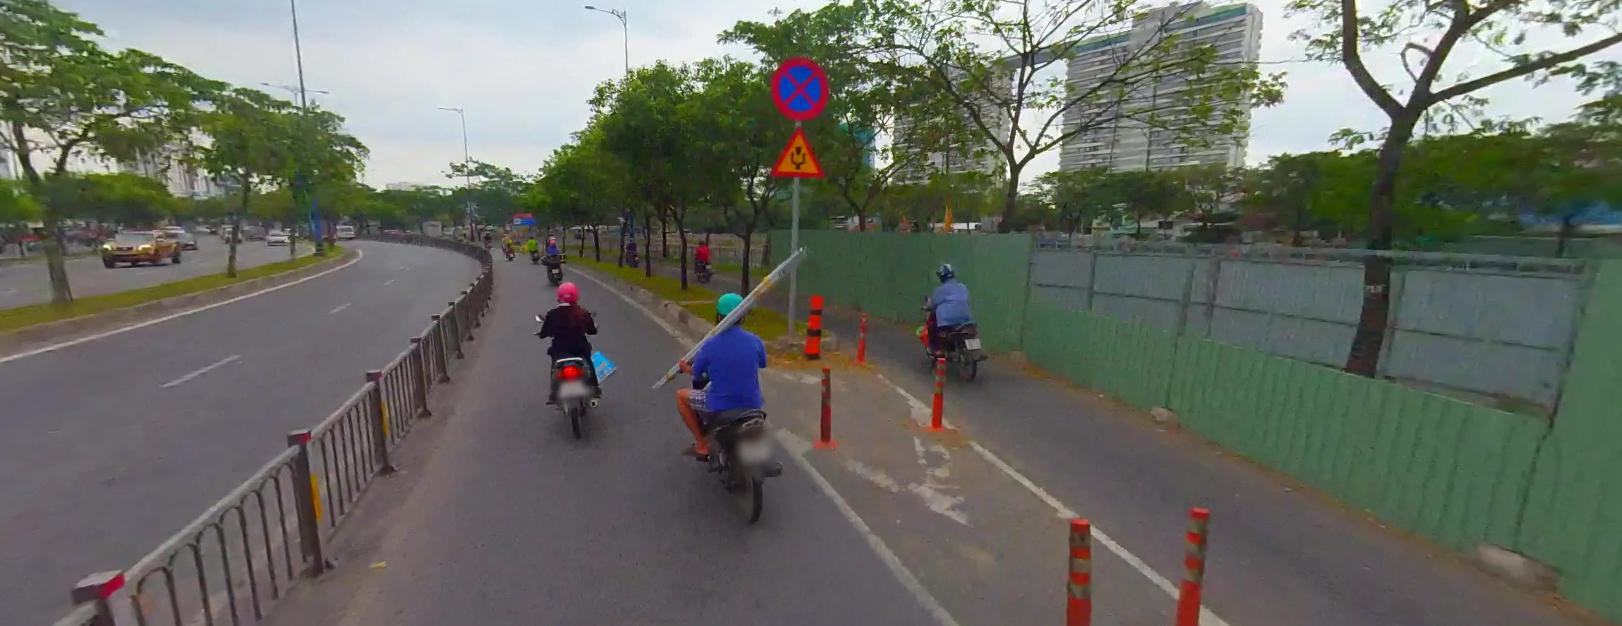Cam dung va do: (770, 54, 831, 120)
Hieu lenh: (767, 122, 826, 177)
